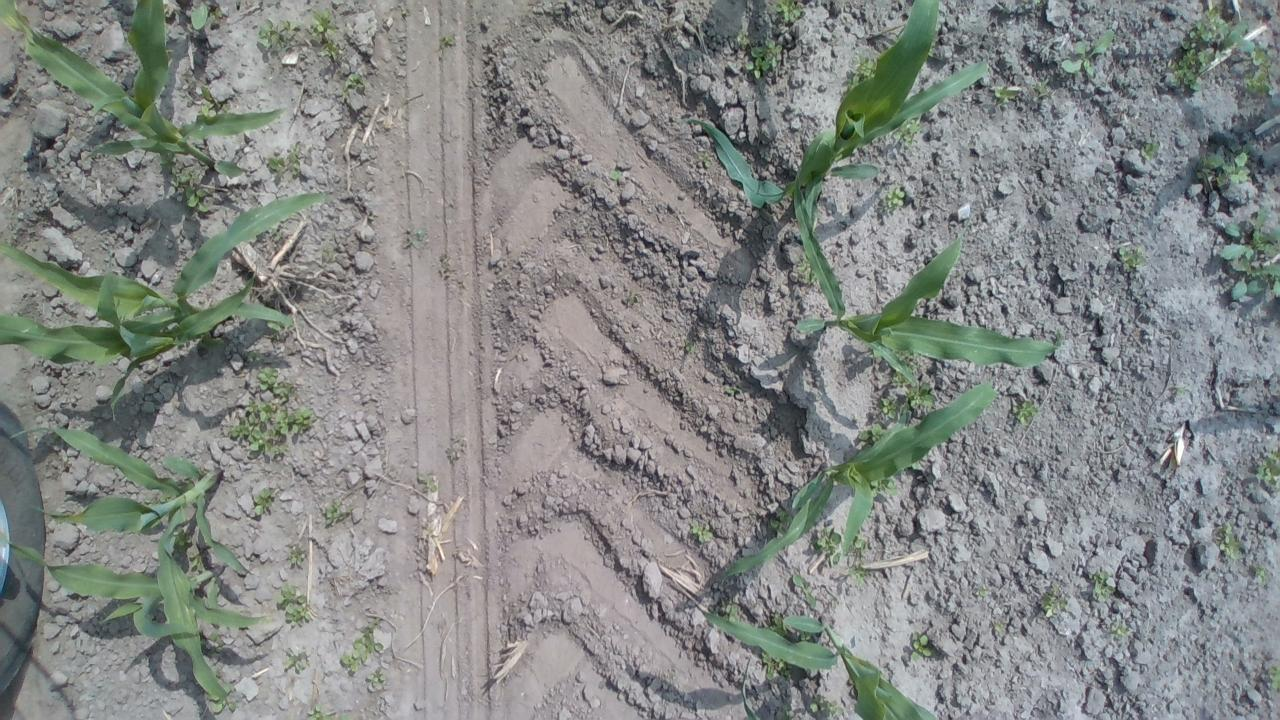Maize: (0, 186, 352, 405), (686, 3, 991, 226), (710, 371, 1010, 596), (779, 201, 1061, 385), (666, 566, 975, 720), (4, 540, 276, 714), (6, 412, 263, 592), (0, 0, 290, 158)
Weeds: (1166, 8, 1272, 103), (224, 365, 319, 463), (1210, 201, 1280, 307), (308, 5, 372, 118), (1188, 141, 1266, 188), (1054, 28, 1120, 78), (164, 161, 216, 217), (874, 381, 940, 424), (811, 520, 870, 568), (728, 34, 786, 79), (251, 16, 307, 60), (756, 0, 819, 39), (989, 77, 1061, 110), (839, 54, 890, 98), (340, 620, 382, 670), (274, 582, 316, 630), (262, 142, 308, 182), (902, 626, 941, 666), (1114, 240, 1152, 280), (1007, 399, 1052, 432), (804, 686, 847, 720), (1039, 580, 1072, 622), (888, 112, 926, 148), (178, 535, 212, 574), (758, 646, 792, 684), (1252, 445, 1280, 491), (193, 86, 228, 121), (852, 422, 898, 448), (206, 684, 242, 714), (1218, 520, 1242, 565), (1103, 616, 1140, 645), (318, 498, 357, 525), (248, 483, 278, 516), (1088, 570, 1118, 602), (878, 182, 906, 216), (684, 520, 720, 546), (794, 262, 825, 292), (400, 222, 430, 253), (760, 603, 791, 632), (765, 504, 796, 533), (986, 616, 1018, 644), (282, 540, 312, 569), (280, 646, 312, 672), (1135, 141, 1165, 168), (434, 26, 460, 55), (304, 703, 348, 720), (414, 469, 441, 494), (602, 162, 624, 192), (872, 477, 901, 499), (1266, 656, 1280, 698), (718, 380, 744, 400), (364, 666, 387, 688), (620, 288, 646, 307), (696, 149, 714, 176), (973, 582, 995, 603), (680, 331, 698, 355), (1252, 562, 1270, 586), (1170, 382, 1192, 399)
